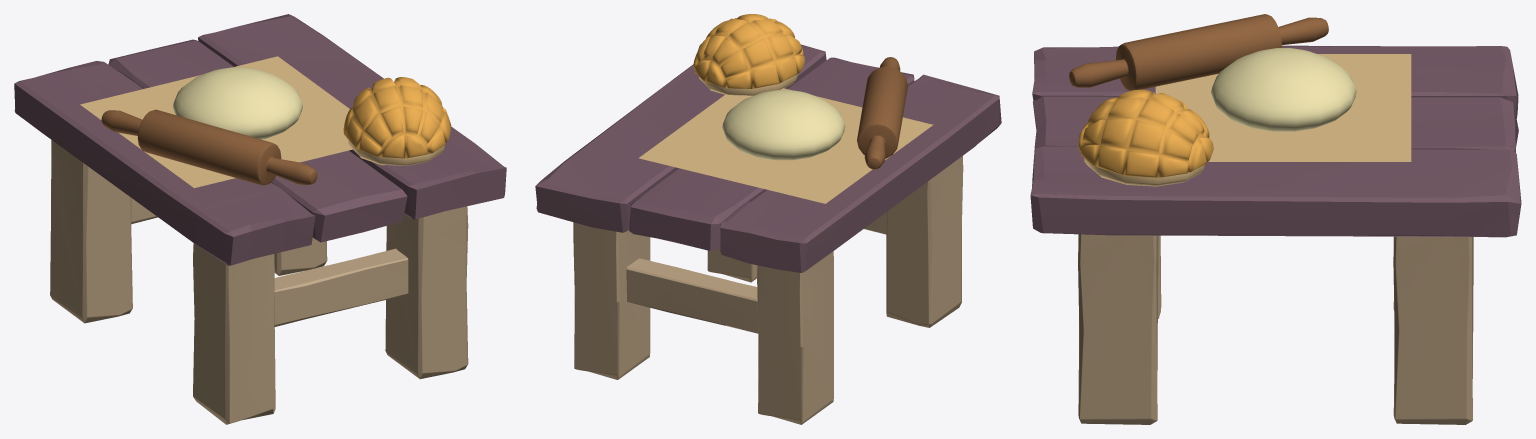
The model's file is table.glb.
3 views of the same model, side by side, from view 1: azimuth 30°, elevation 25°; view 2: azimuth 150°, elevation 25°; view 3: azimuth 270°, elevation 25° (orthographic). The views are drawn at different scales.
Visible parts, largest first — view 1: Brick, Table Top, Bakery | Table board, Bakery | Rolling pin, Polo Bun | Yellow, Bakery | Dough, Polo Bun | Pale Yellow; view 2: Table Top, Brick, Bakery | Table board, Bakery | Dough, Polo Bun | Yellow, Bakery | Rolling pin, Polo Bun | Pale Yellow; view 3: Table Top, Brick, Bakery | Table board, Bakery | Rolling pin, Bakery | Dough, Polo Bun | Yellow, Polo Bun | Pale Yellow.
Part boxes in pixels (box(x1,y1,x2,y2)): Brick: box(50, 140, 468, 424); Table Top: box(14, 14, 506, 265); Bakery | Table board: box(80, 56, 352, 188); Bakery | Rolling pin: box(101, 109, 317, 185); Polo Bun | Yellow: box(343, 77, 451, 158); Bakery | Dough: box(173, 67, 302, 139); Polo Bun | Pale Yellow: box(348, 140, 444, 165); Table Top: box(535, 44, 1001, 272); Brick: box(573, 156, 963, 424); Bakery | Table board: box(639, 88, 933, 203); Bakery | Dough: box(722, 90, 845, 160); Polo Bun | Yellow: box(693, 14, 804, 88); Bakery | Rolling pin: box(857, 57, 907, 169); Polo Bun | Pale Yellow: box(699, 73, 798, 95); Table Top: box(1030, 45, 1521, 237); Brick: box(1078, 234, 1473, 424); Bakery | Table board: box(1155, 54, 1411, 161); Bakery | Rolling pin: box(1069, 14, 1328, 90); Bakery | Dough: box(1211, 48, 1356, 131); Polo Bun | Yellow: box(1078, 89, 1213, 177); Polo Bun | Pale Yellow: box(1084, 158, 1205, 186).
Size of the model in its own units: 1.07 by 0.9882 by 1.43.
